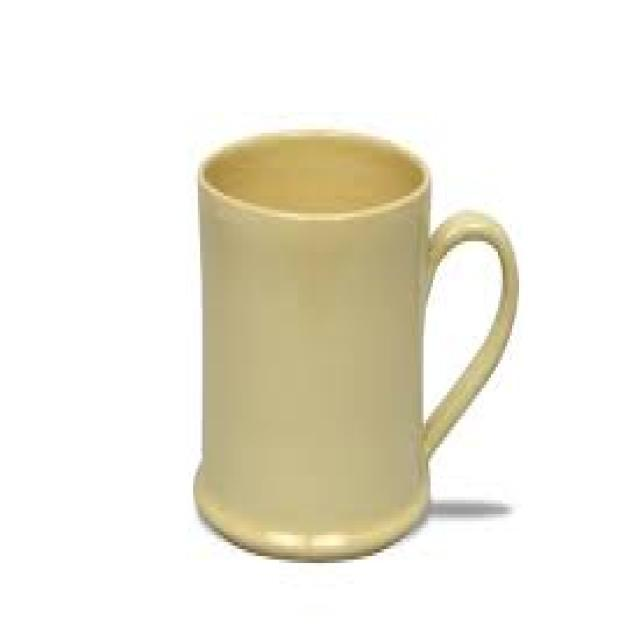taza: (192, 125, 520, 566)
